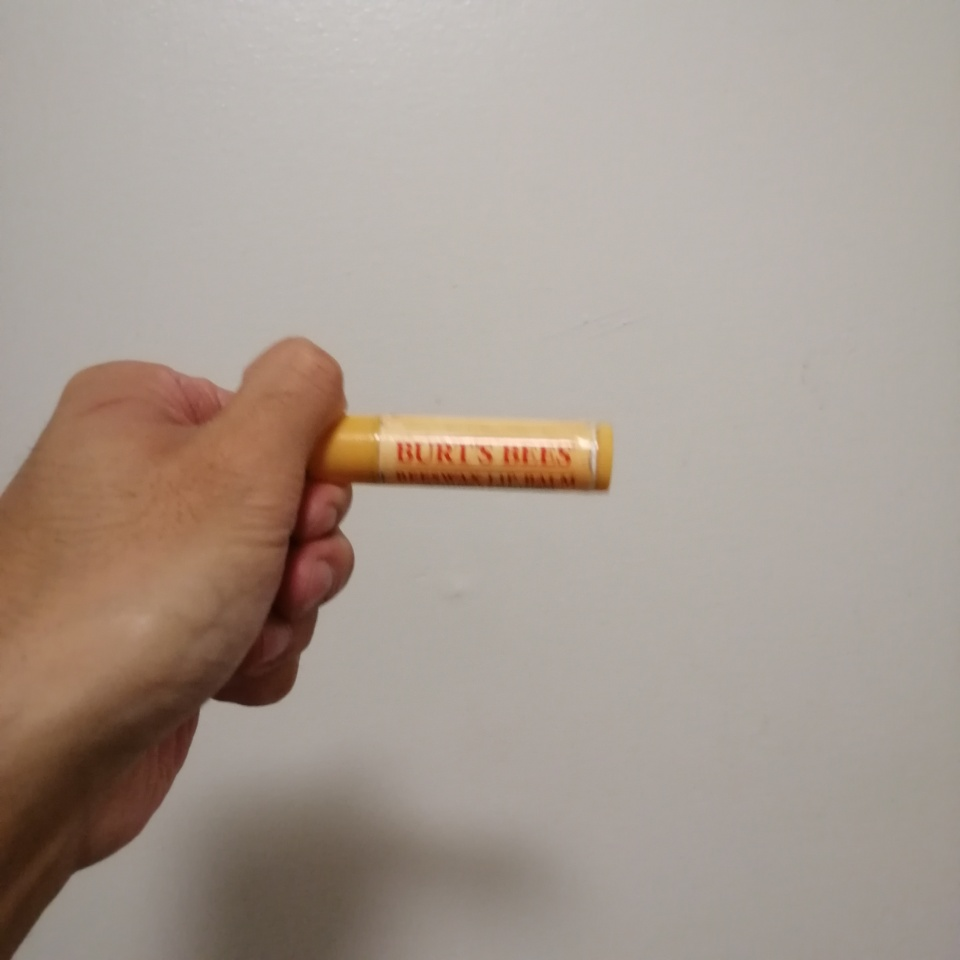chapstick: (308, 412, 614, 491)
